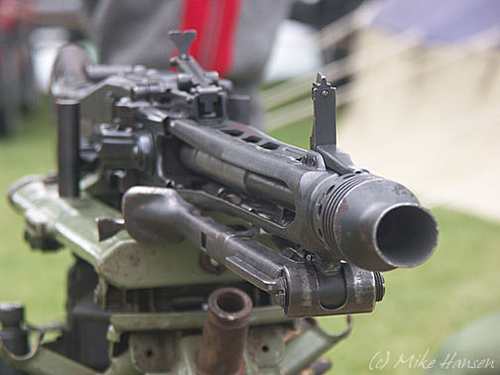rifle: (51, 49, 438, 364)
